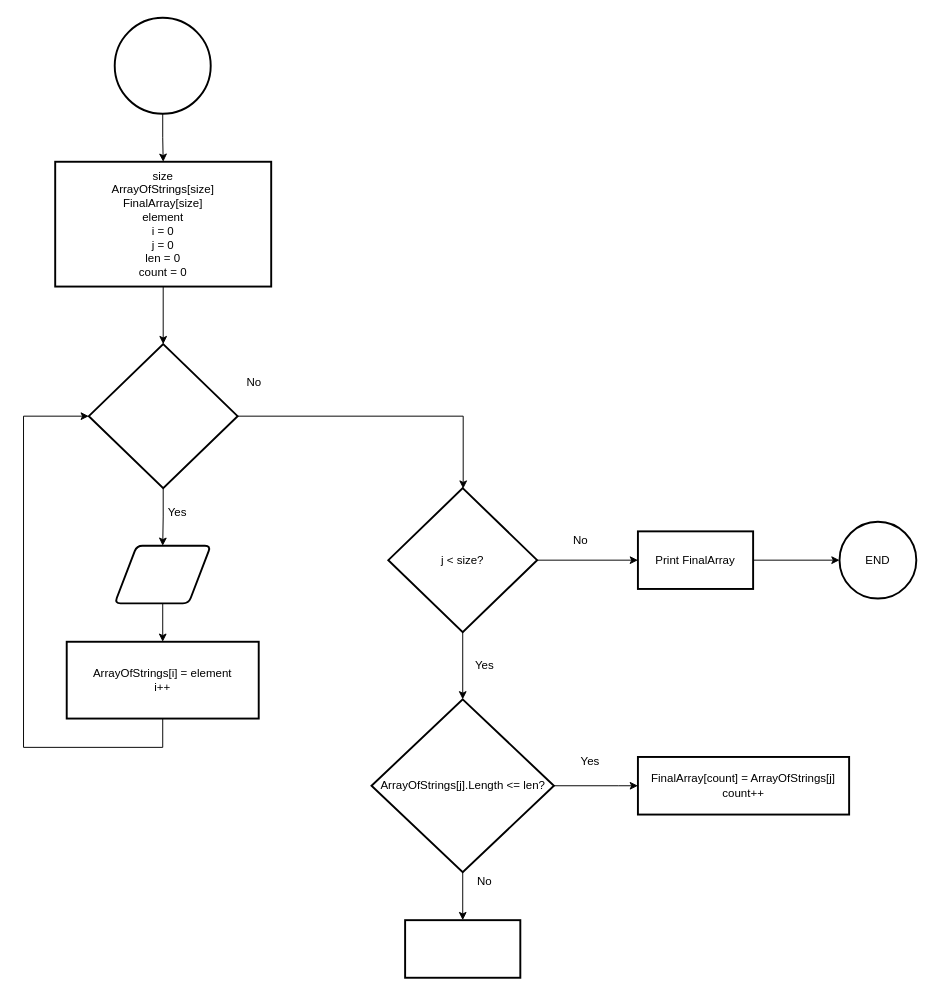
Some shapes in this 934 by 995 pixel diagram are drawn without their labels. The shapes that lost their labels are listed below. From the top down, each one's centre as x and y in pixels, then its label:
the point at 162,65: START
the point at 162,416: i < size?
the point at 162,574: element
the point at 462,948: j++
